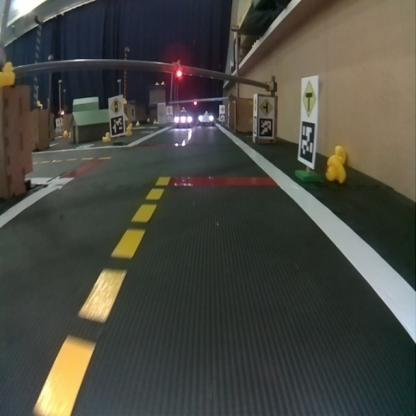Duckie: (0, 61, 15, 85), (325, 161, 343, 181), (332, 145, 345, 163), (102, 131, 109, 140), (126, 126, 130, 134)
Duckiebot: (174, 112, 191, 126), (199, 113, 214, 124)
Intersection sign: (302, 79, 315, 113), (259, 97, 272, 114)
QR code: (298, 123, 313, 166), (111, 116, 124, 134), (258, 118, 271, 134)
Signal sign: (108, 98, 121, 113)
Traffic light: (173, 67, 182, 79)
